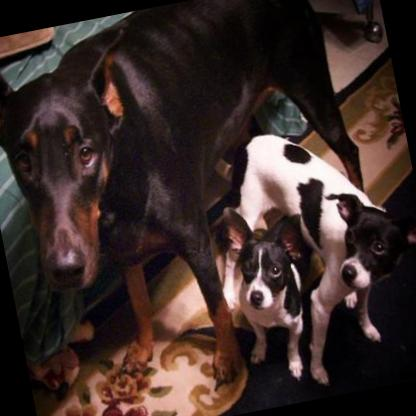Doberman: (0, 0, 397, 416)
